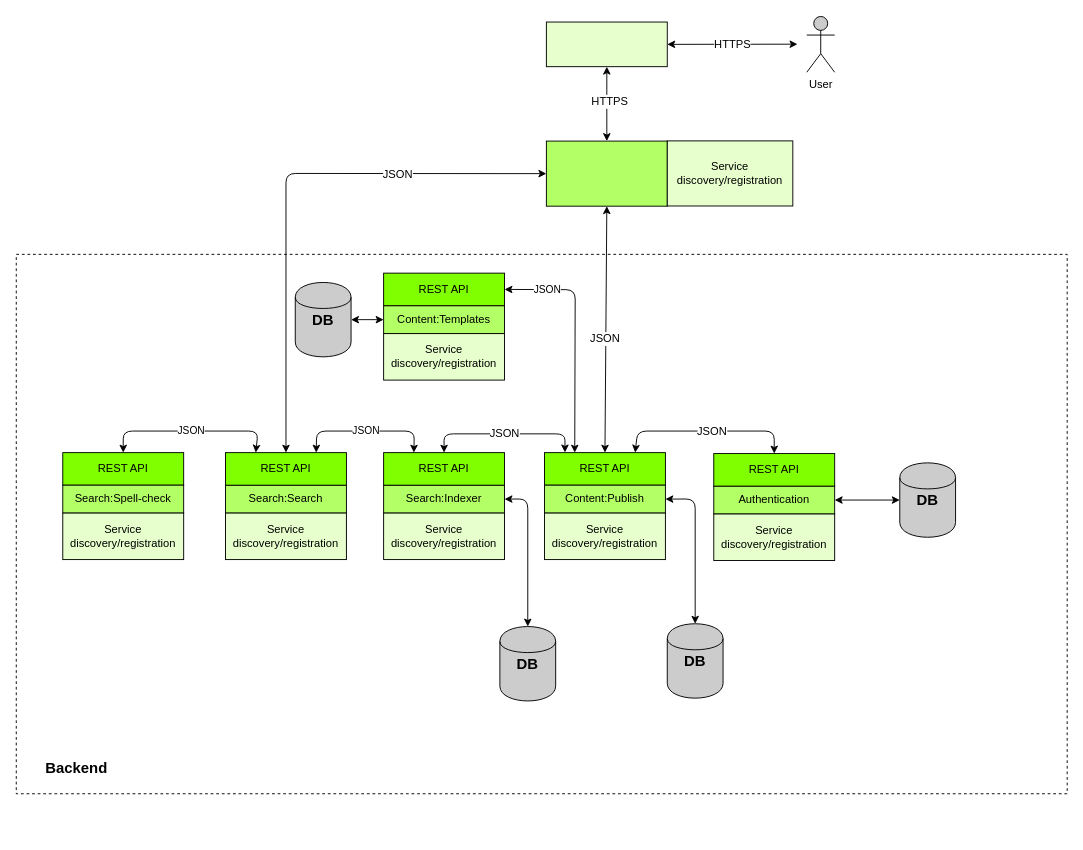
The diagram is 1083 pixels wide and 850 high, and some of its shapes have lost their labels. The shapes that lost their labels are listed below. From the top down, each one's centre as x and y in pixels, then its label:
At [606,44]: "Load balancer".
At [606,173]: "Content:front-end".
